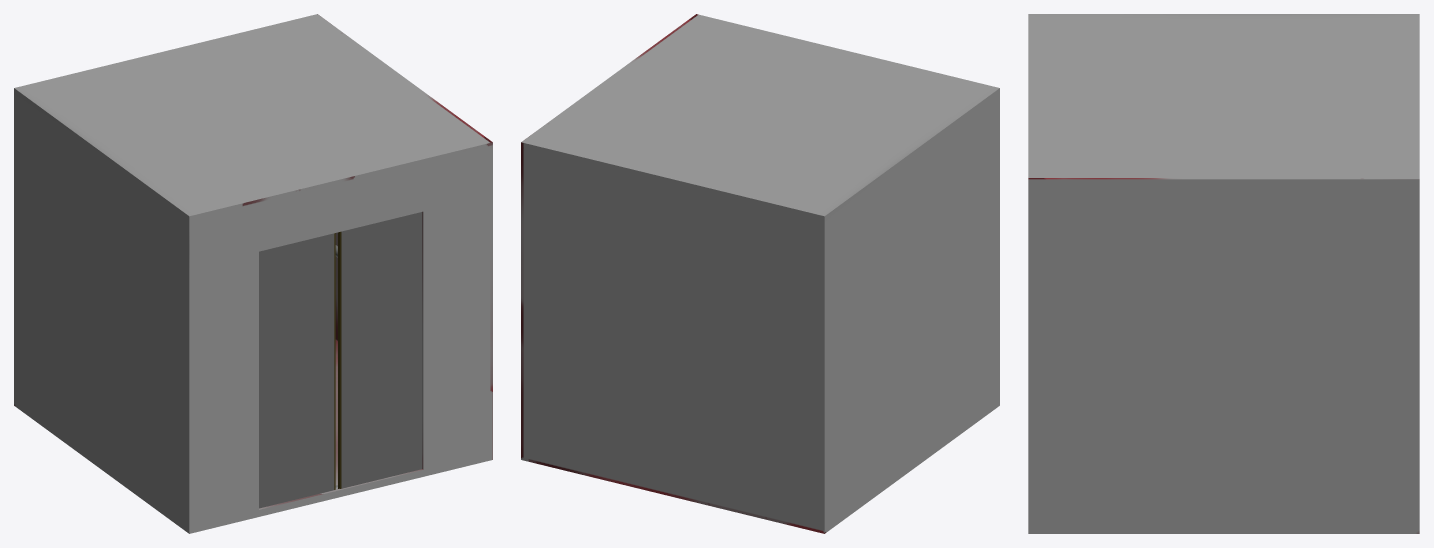
Rendered from LD Jam elevator file.fbx.
3 views of the same model, side by side, from view 1: azimuth 30°, elevation 25°; view 2: azimuth 150°, elevation 25°; view 3: azimuth 270°, elevation 25° (orthographic). The views are drawn at different scales.
Parts seen in each view (by area): view 1: The Whole Elevator, Door left, Door Right; view 2: The Whole Elevator; view 3: The Whole Elevator.
Part boxes in pixels (box(x1,y1,x2,y2)): The Whole Elevator: box(14, 14, 492, 533); Door left: box(338, 212, 422, 488); Door Right: box(259, 233, 335, 508); The Whole Elevator: box(521, 14, 999, 533); The Whole Elevator: box(1028, 14, 1419, 533).
Size of the model in its own units: 278 by 278 by 278.
Materials: 13 (1 with a texture image).
